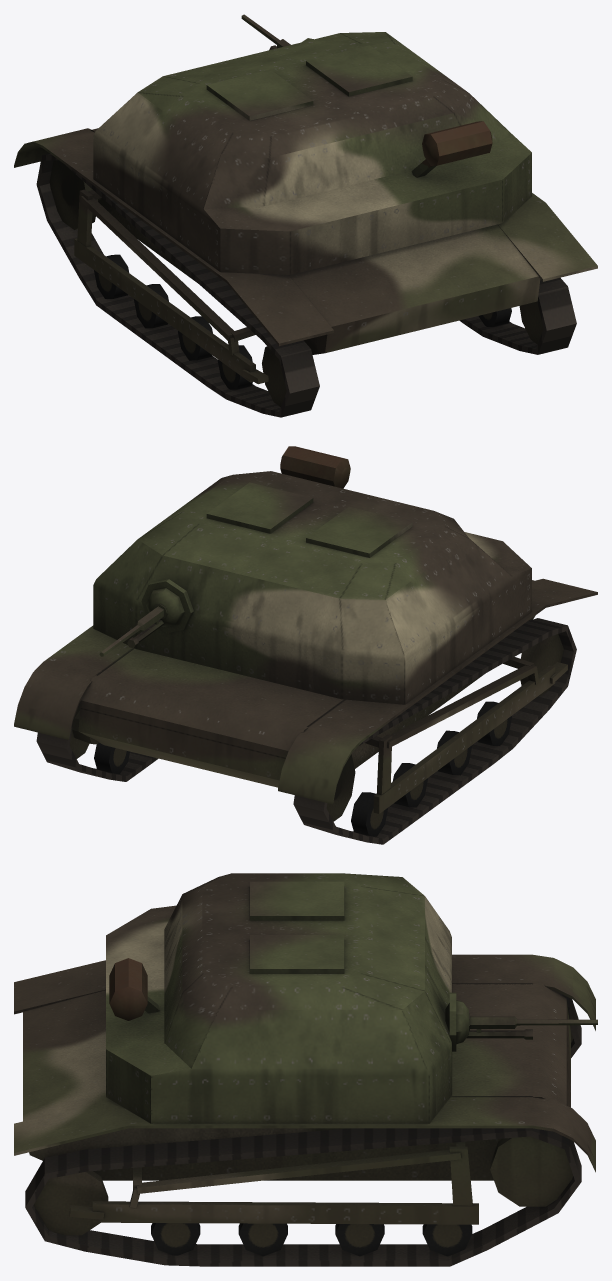
File: TKS_MID.fbx
The picture shows the model from 3 angles, top to bottom: view 1: azimuth 30°, elevation 25°; view 2: azimuth 150°, elevation 25°; view 3: azimuth 270°, elevation 25°; orthographic projection. The views are drawn at different scales.
Parts seen in each view (by area): view 1: Chassis, Chenille_Gauche_01, Chenille_Droite_01, Roue_G1, Roue_G6, Roue_D6, Roue_G4, Roue_G3, Roue_G2, Roue_G5; view 2: Chassis, Chenille_Gauche_01, Chenille_Droite_01, Tourelle_01, Roue_G2, Roue_G6, Roue_G1, Roue_D2, Roue_G5, Canon_01, Roue_G4, Roue_G3; view 3: Chassis, Chenille_Droite_01, Roue_D1, Roue_D6, Roue_D4, Roue_D5, Roue_D2, Roue_D3, Canon_01, Tourelle_01, Axe_Canon_01.
Part boxes in pixels (left/top/right/bottom): Chassis: left=14, top=32, right=597, bottom=384; Chenille_Gauche_01: left=36, top=153, right=319, bottom=417; Chenille_Droite_01: left=459, top=277, right=576, bottom=354; Roue_G1: left=49, top=160, right=97, bottom=229; Roue_G6: left=262, top=346, right=286, bottom=406; Roue_D6: left=519, top=301, right=543, bottom=344; Roue_G4: left=178, top=316, right=212, bottom=360; Roue_G3: left=134, top=284, right=168, bottom=328; Roue_G2: left=94, top=254, right=129, bottom=298; Roue_G5: left=217, top=345, right=252, bottom=389; Chassis: left=14, top=446, right=597, bottom=813; Chenille_Gauche_01: left=293, top=618, right=576, bottom=844; Chenille_Droite_01: left=36, top=701, right=158, bottom=781; Tourelle_01: left=141, top=579, right=193, bottom=633; Roue_G2: left=351, top=792, right=387, bottom=836; Roue_G6: left=520, top=634, right=563, bottom=695; Roue_G1: left=326, top=754, right=355, bottom=821; Roue_D2: left=94, top=742, right=129, bottom=773; Roue_G5: left=477, top=701, right=511, bottom=745; Canon_01: left=99, top=606, right=164, bottom=656; Roue_G4: left=437, top=730, right=471, bottom=775; Roue_G3: left=392, top=763, right=427, bottom=807; Chassis: left=14, top=873, right=595, bottom=1224; Chenille_Droite_01: left=25, top=1128, right=581, bottom=1266; Roue_D1: left=490, top=1136, right=573, bottom=1206; Roue_D6: left=33, top=1171, right=108, bottom=1235; Roue_D4: left=238, top=1223, right=287, bottom=1256; Roue_D5: left=151, top=1223, right=200, bottom=1255; Roue_D2: left=422, top=1224, right=472, bottom=1256; Roue_D3: left=335, top=1224, right=384, bottom=1256; Canon_01: left=470, top=1016, right=597, bottom=1028; Tourelle_01: left=445, top=992, right=468, bottom=1051; Axe_Canon_01: left=466, top=1013, right=532, bottom=1039.
Bounding box in the file's own units: 180 × 260 × 130.
Materials: 1 (1 with a texture image).
